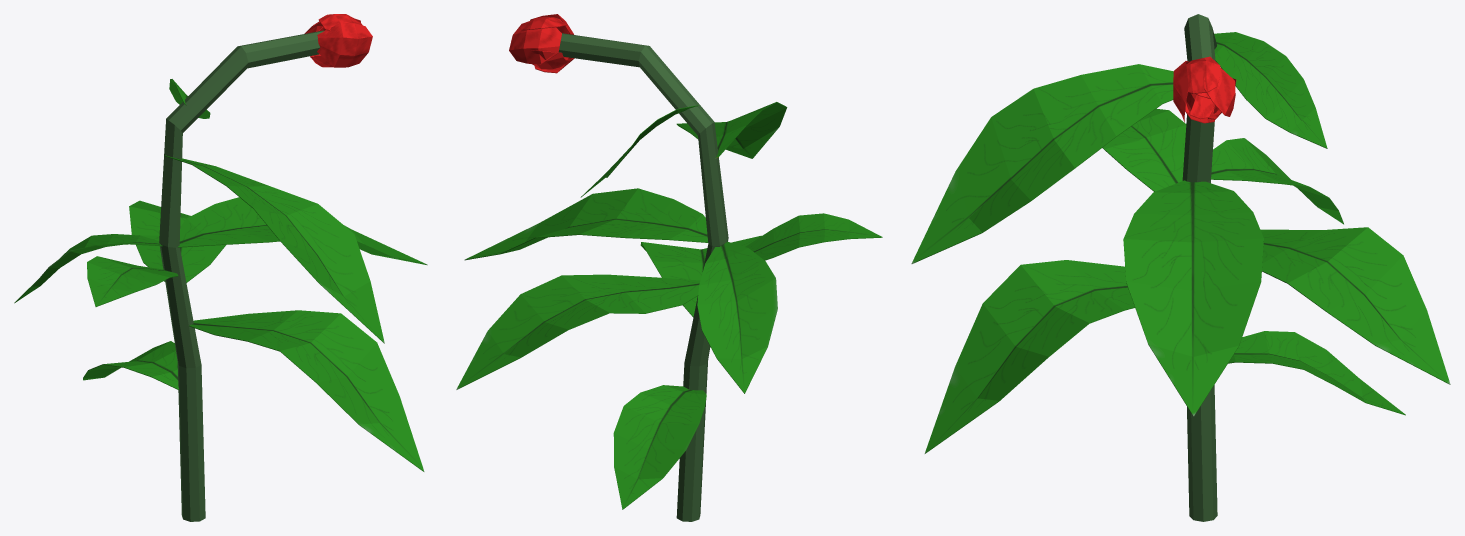
The model's file is plant_withered_2.fbx.
The picture shows the model from 3 angles, left to right: view 1: azimuth 30°, elevation 25°; view 2: azimuth 150°, elevation 25°; view 3: azimuth 270°, elevation 25°; orthographic projection. The views are drawn at different scales.
Visible parts, largest first — view 1: Cylinder; view 2: Cylinder; view 3: Cylinder.
Boxes of the visible parts, <box> form: Cylinder: <box>14,14,427,521</box>; Cylinder: <box>456,14,882,521</box>; Cylinder: <box>911,14,1450,521</box>.
Bounding box in the file's own units: 1.36 × 1.25 × 1.49.
